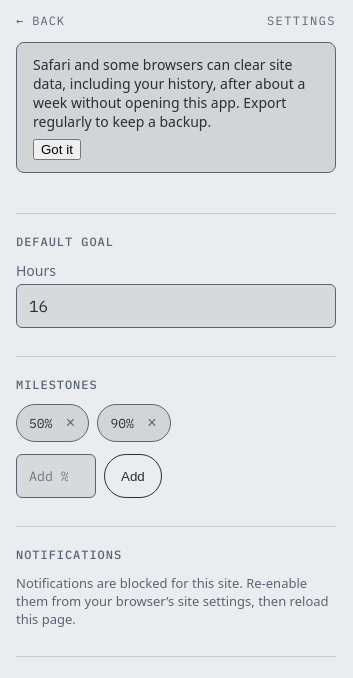
<Settings> eviction notice › shows once and stays dismissed after dismissal
This screenshot has width=353, height=678.
Check: the text "clear site data" is shown, box [33,55,305,131]
Click the button "Got it": (57, 150) [33,139,81,160]
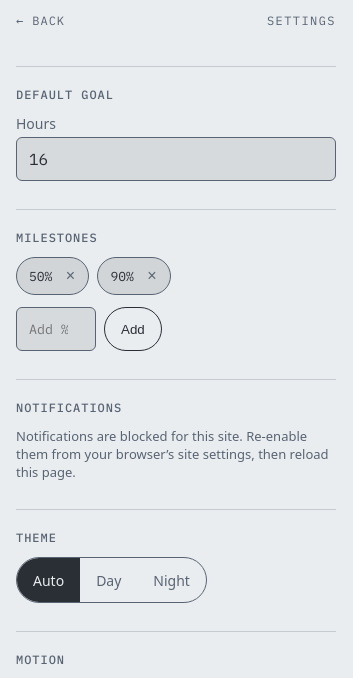
Check: the text "clear site data" is gone
